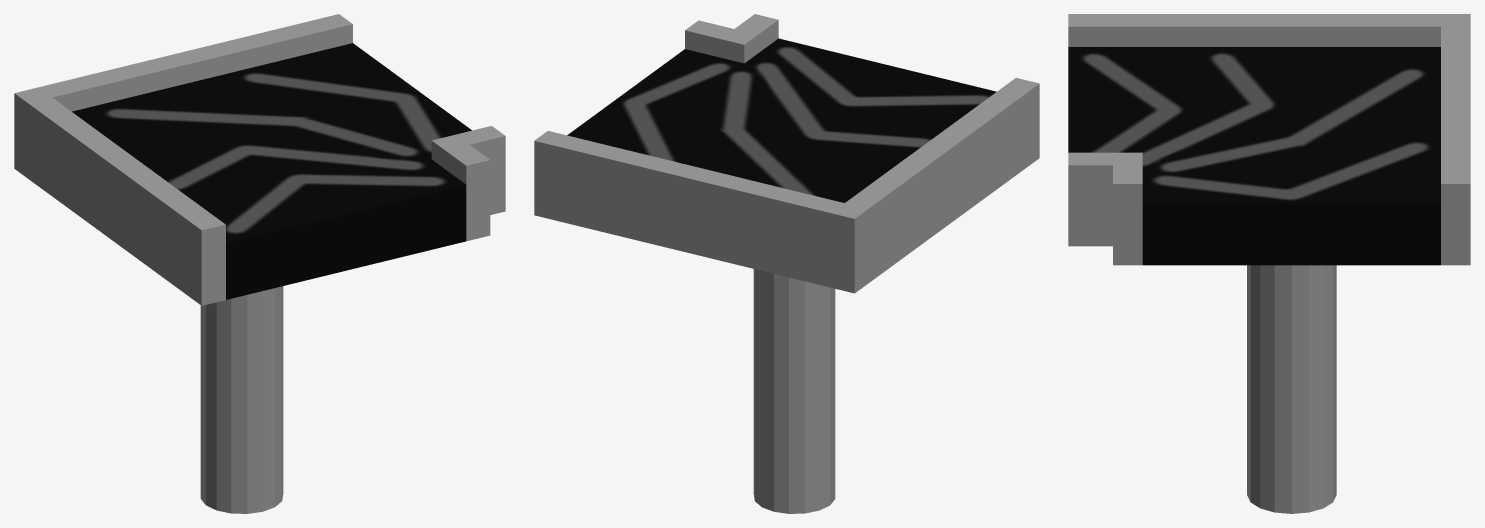
The model's file is beltR.glb.
3 views of the same model, side by side, from view 1: azimuth 30°, elevation 25°; view 2: azimuth 150°, elevation 25°; view 3: azimuth 270°, elevation 25° (orthographic). The views are drawn at different scales.
Visible parts, largest first — view 1: Cube, Cylinder; view 2: Cube, Cylinder; view 3: Cube, Cylinder.
Boxes of the visible parts, x1,y1,x2,y2 form: Cube: (14, 14, 505, 305); Cylinder: (200, 286, 283, 513); Cube: (534, 14, 1039, 293); Cylinder: (753, 269, 835, 513); Cube: (1068, 14, 1470, 265); Cylinder: (1247, 265, 1336, 513).
Size of the model in its own units: 0.9 by 1 by 0.9.
Materials: 2 (1 with a texture image).
